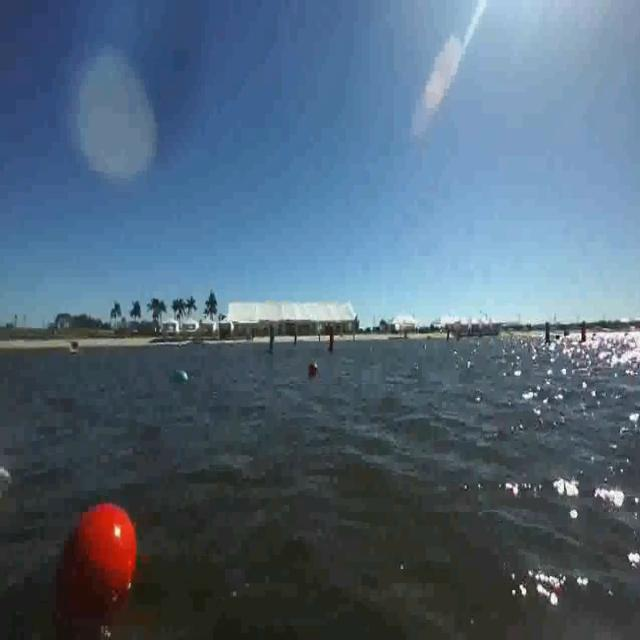green-buoy: (168, 370, 188, 385)
green-column-buoy: (268, 327, 278, 355)
red-buoy: (70, 496, 142, 600), (306, 365, 318, 379)
red-column-buoy: (327, 328, 336, 354)
